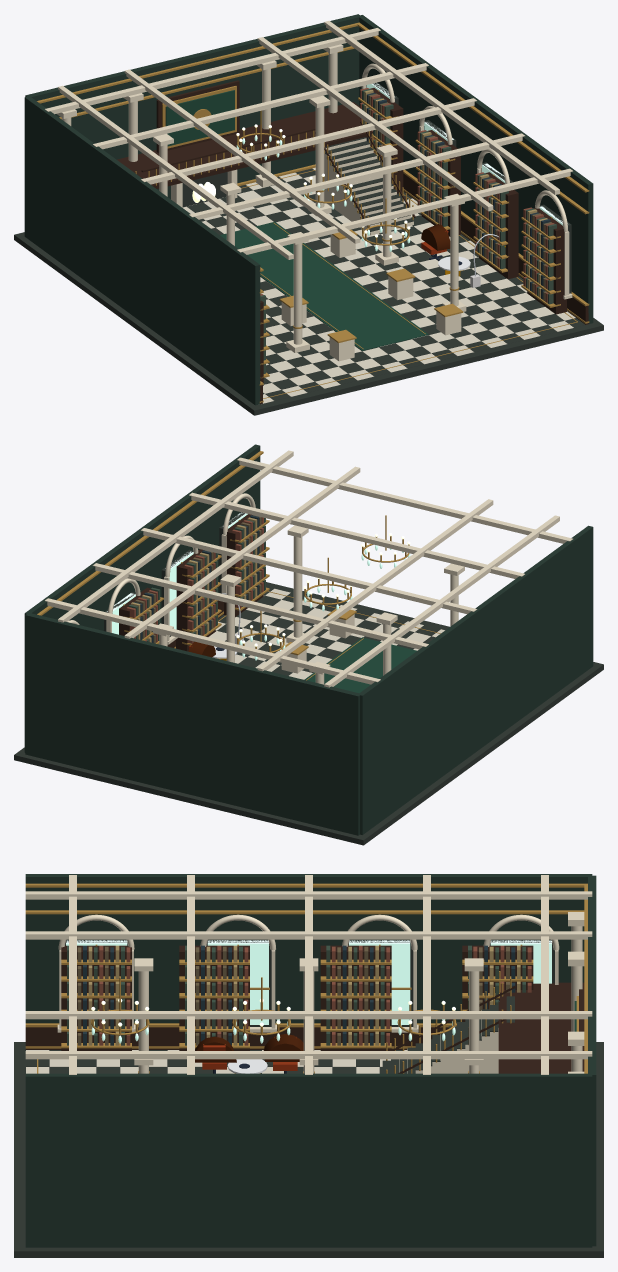
Rendered from library.glb.
3 views of the same model, one above another, from view 1: azimuth 30°, elevation 25°; view 2: azimuth 150°, elevation 25°; view 3: azimuth 270°, elevation 25° (orthographic). The views are drawn at different scales.
Visible parts, largest first — view 1: My World · library; view 2: My World · library; view 3: My World · library.
Part boxes in pixels (x1=…): My World · library: x1=14, y1=14, x2=603, y2=415; My World · library: x1=14, y1=444, x2=603, y2=845; My World · library: x1=14, y1=874, x2=603, y2=1257.
Bounding box in the file's own units: 21 × 8.44 × 25.
